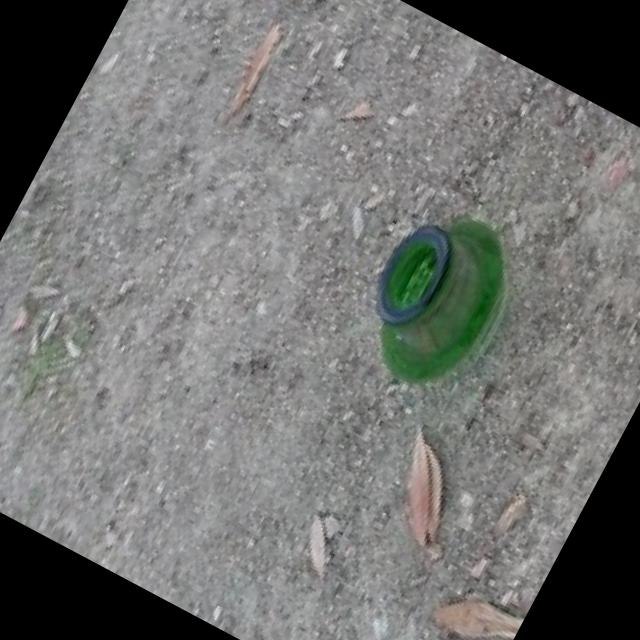BotolKaca: (339, 188, 537, 408)
